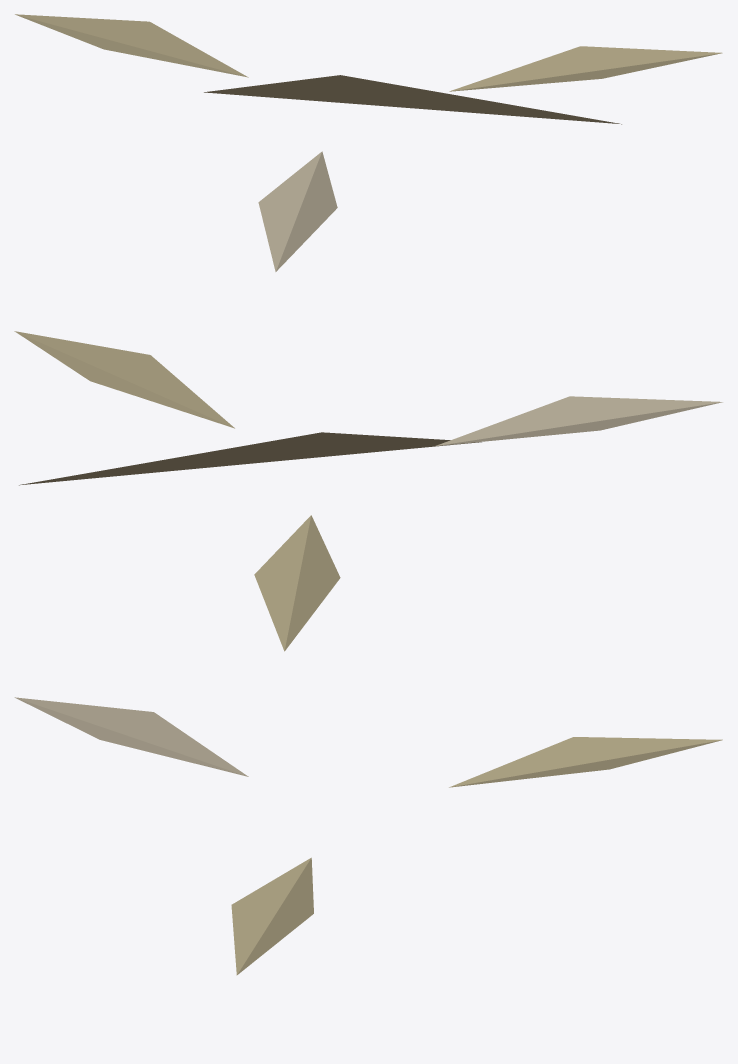
The model's file is guan.moli@withered__summer.glb.
The picture shows the model from 3 angles, top to bottom: view 1: azimuth 30°, elevation 25°; view 2: azimuth 150°, elevation 25°; view 3: azimuth 270°, elevation 25°; orthographic projection. The views are drawn at different scales.
Visible parts, largest first — view 1: guan.moli@withered__summer; view 2: guan.moli@withered__summer; view 3: guan.moli@withered__summer.
Boxes of the visible parts, <box> form: guan.moli@withered__summer: <box>15,14,722,271</box>; guan.moli@withered__summer: <box>14,331,722,651</box>; guan.moli@withered__summer: <box>14,697,722,975</box>.
Bounding box in the file's own units: 0.4394 × 0.084 × 0.4303.
